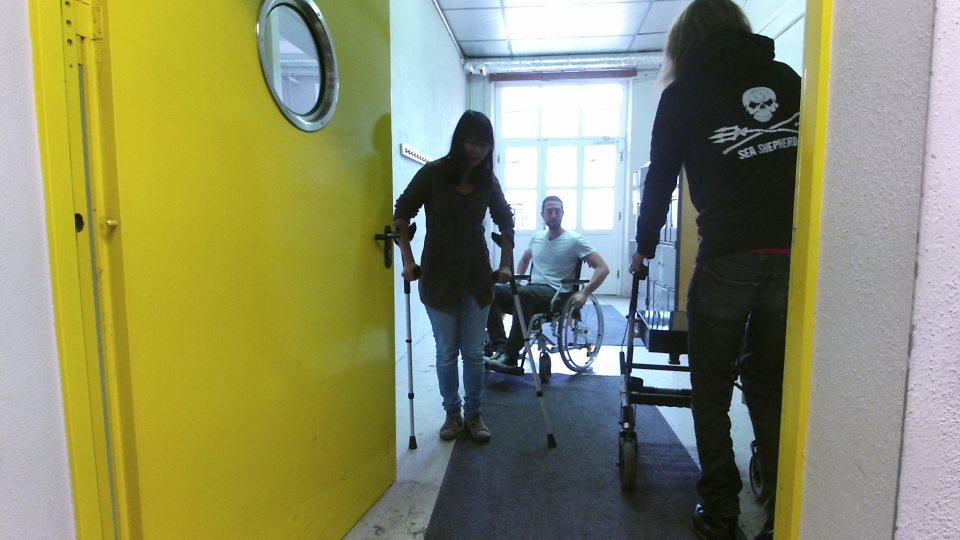crutches: (383, 102, 560, 467)
wheelchair: (487, 187, 604, 381)
